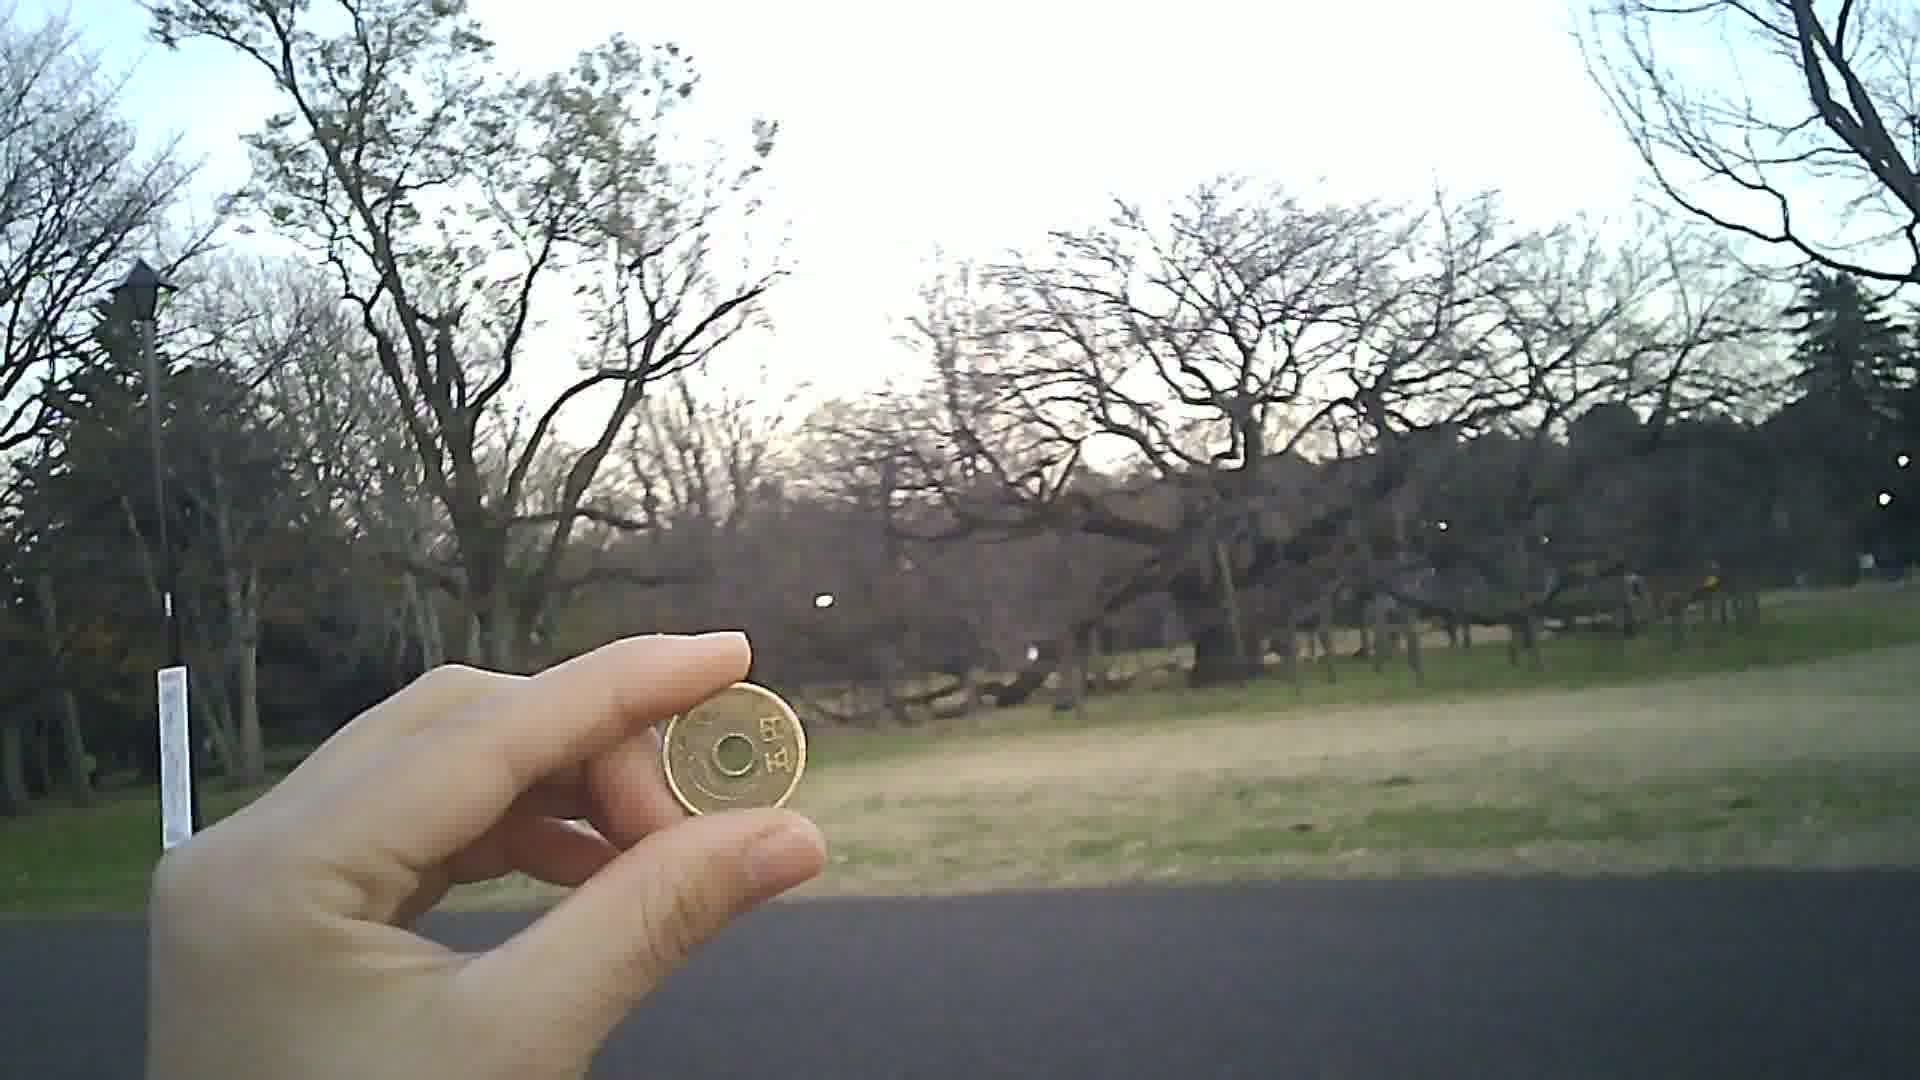5 Yen: (647, 665, 803, 825)
